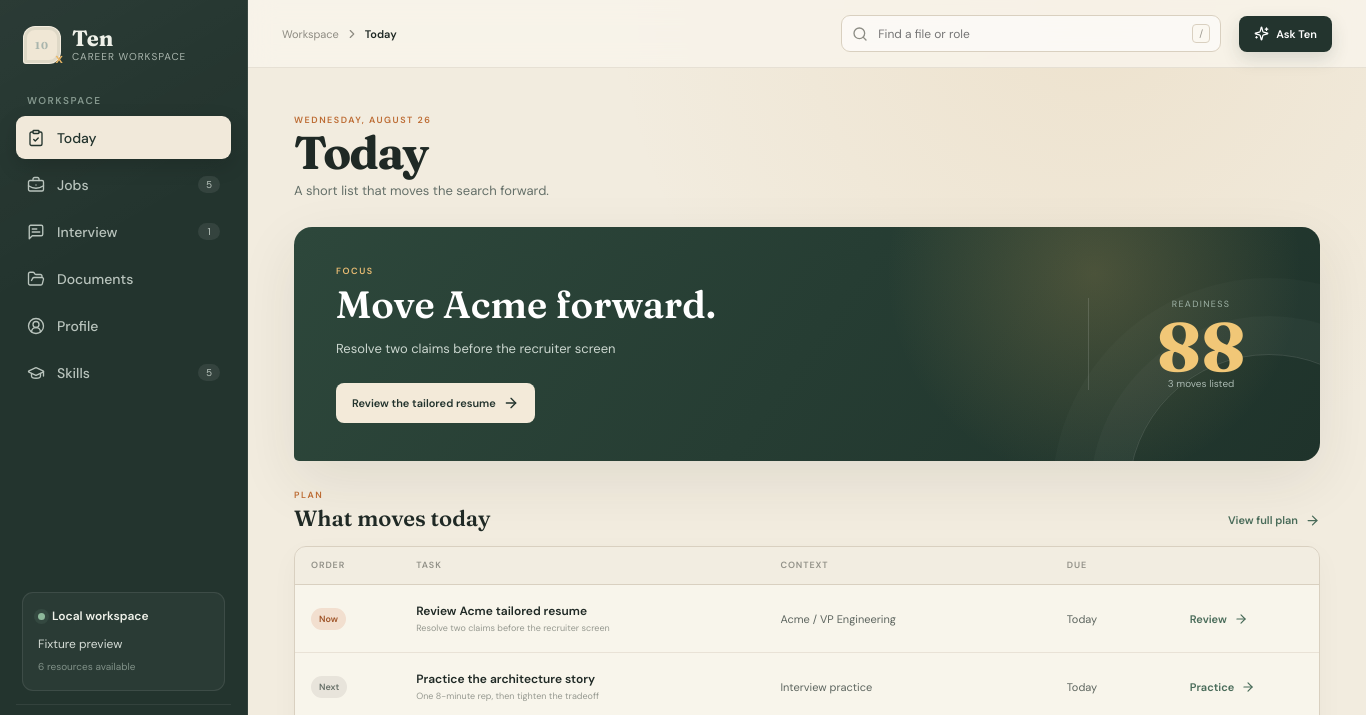
workspace preview › activates context only after an explicit Ask action
This screenshot has width=1366, height=715.
Click the button "Documents": (124, 278) [16,257,231,300]
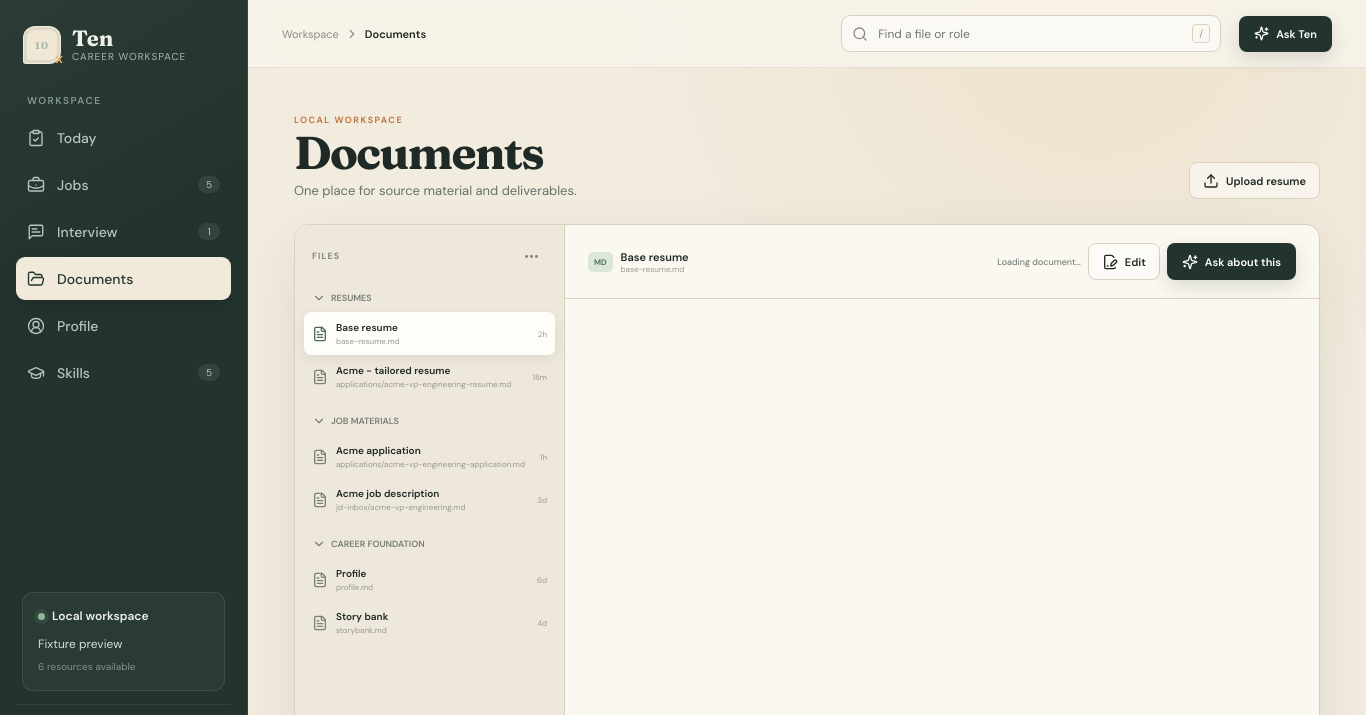
Click the button "Base resume base-resume.md 2h": (430, 334) [304,312,555,355]
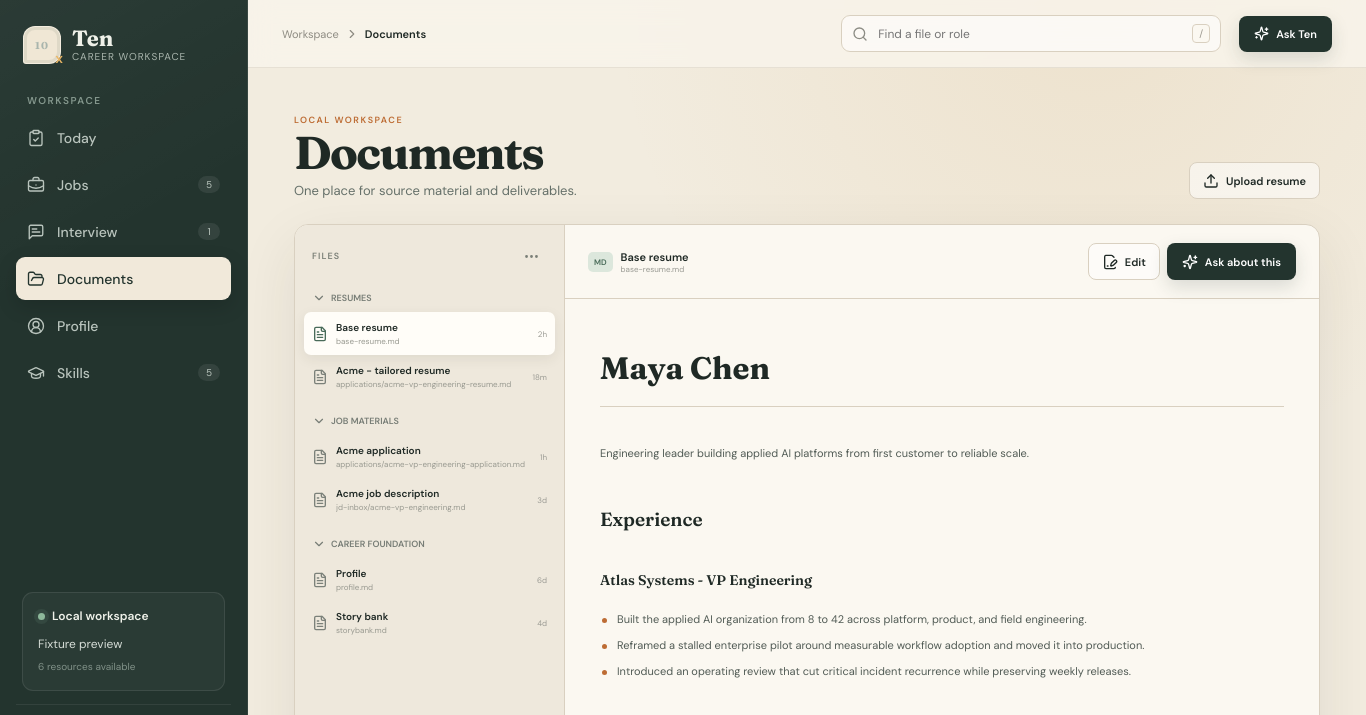
expect the heading "Maya Chen" is shown: met, box [600,349,1284,407]
Click the button "Ask about this": (1231, 262) [1167,243,1296,280]
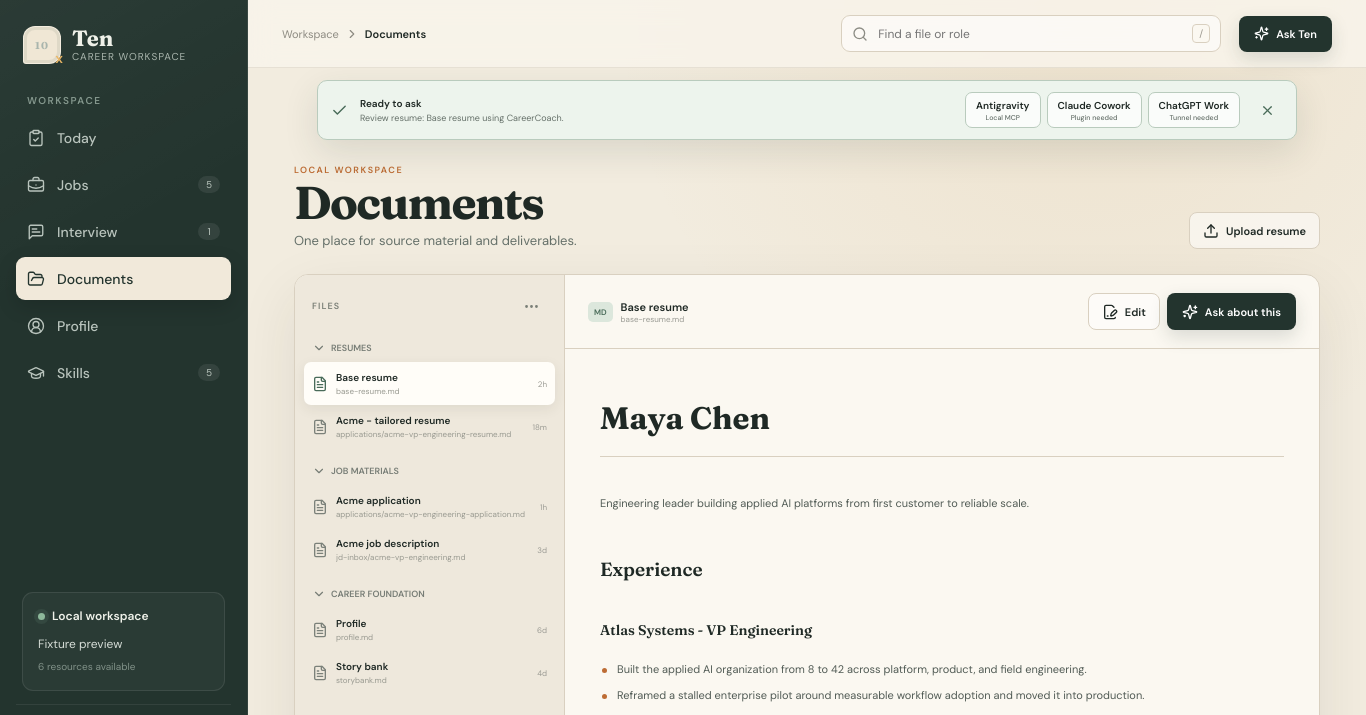
expect the text "Review resume: Base resume using CareerCoach." is shown: met, box [360,112,564,124]
